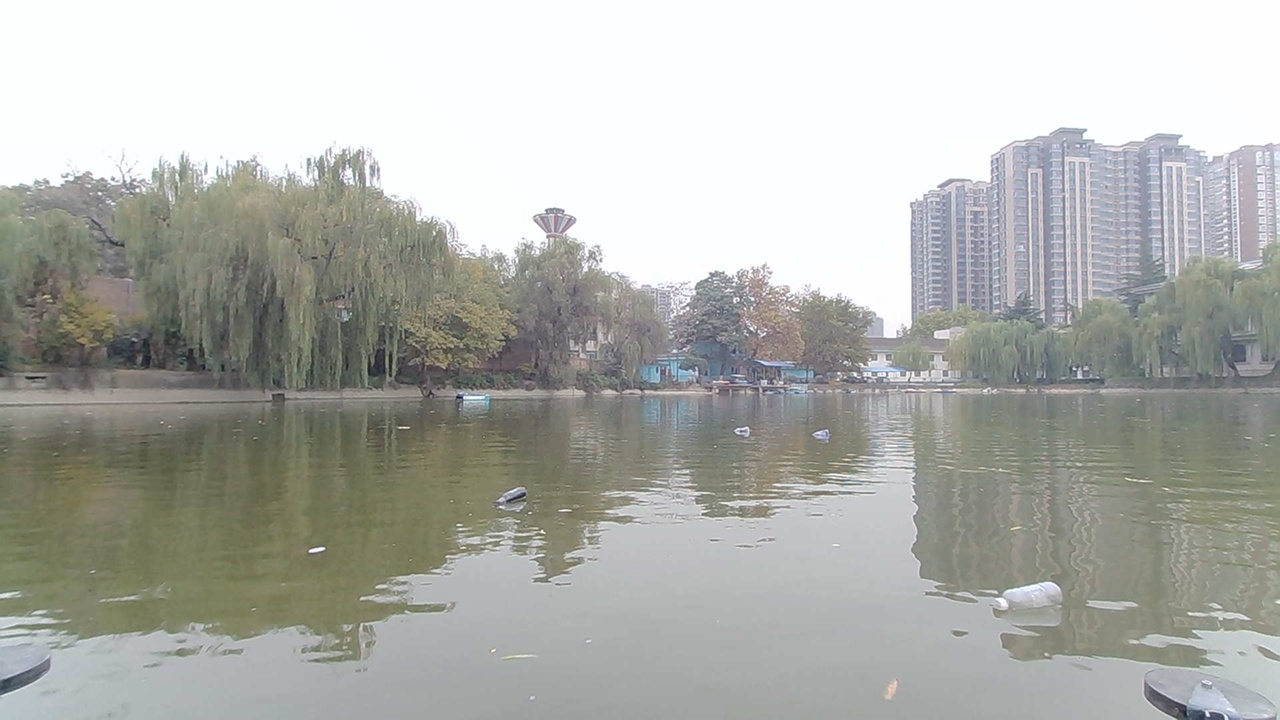bottle: (989, 575, 1067, 630), (725, 415, 759, 445), (499, 489, 529, 511), (805, 426, 838, 443)
